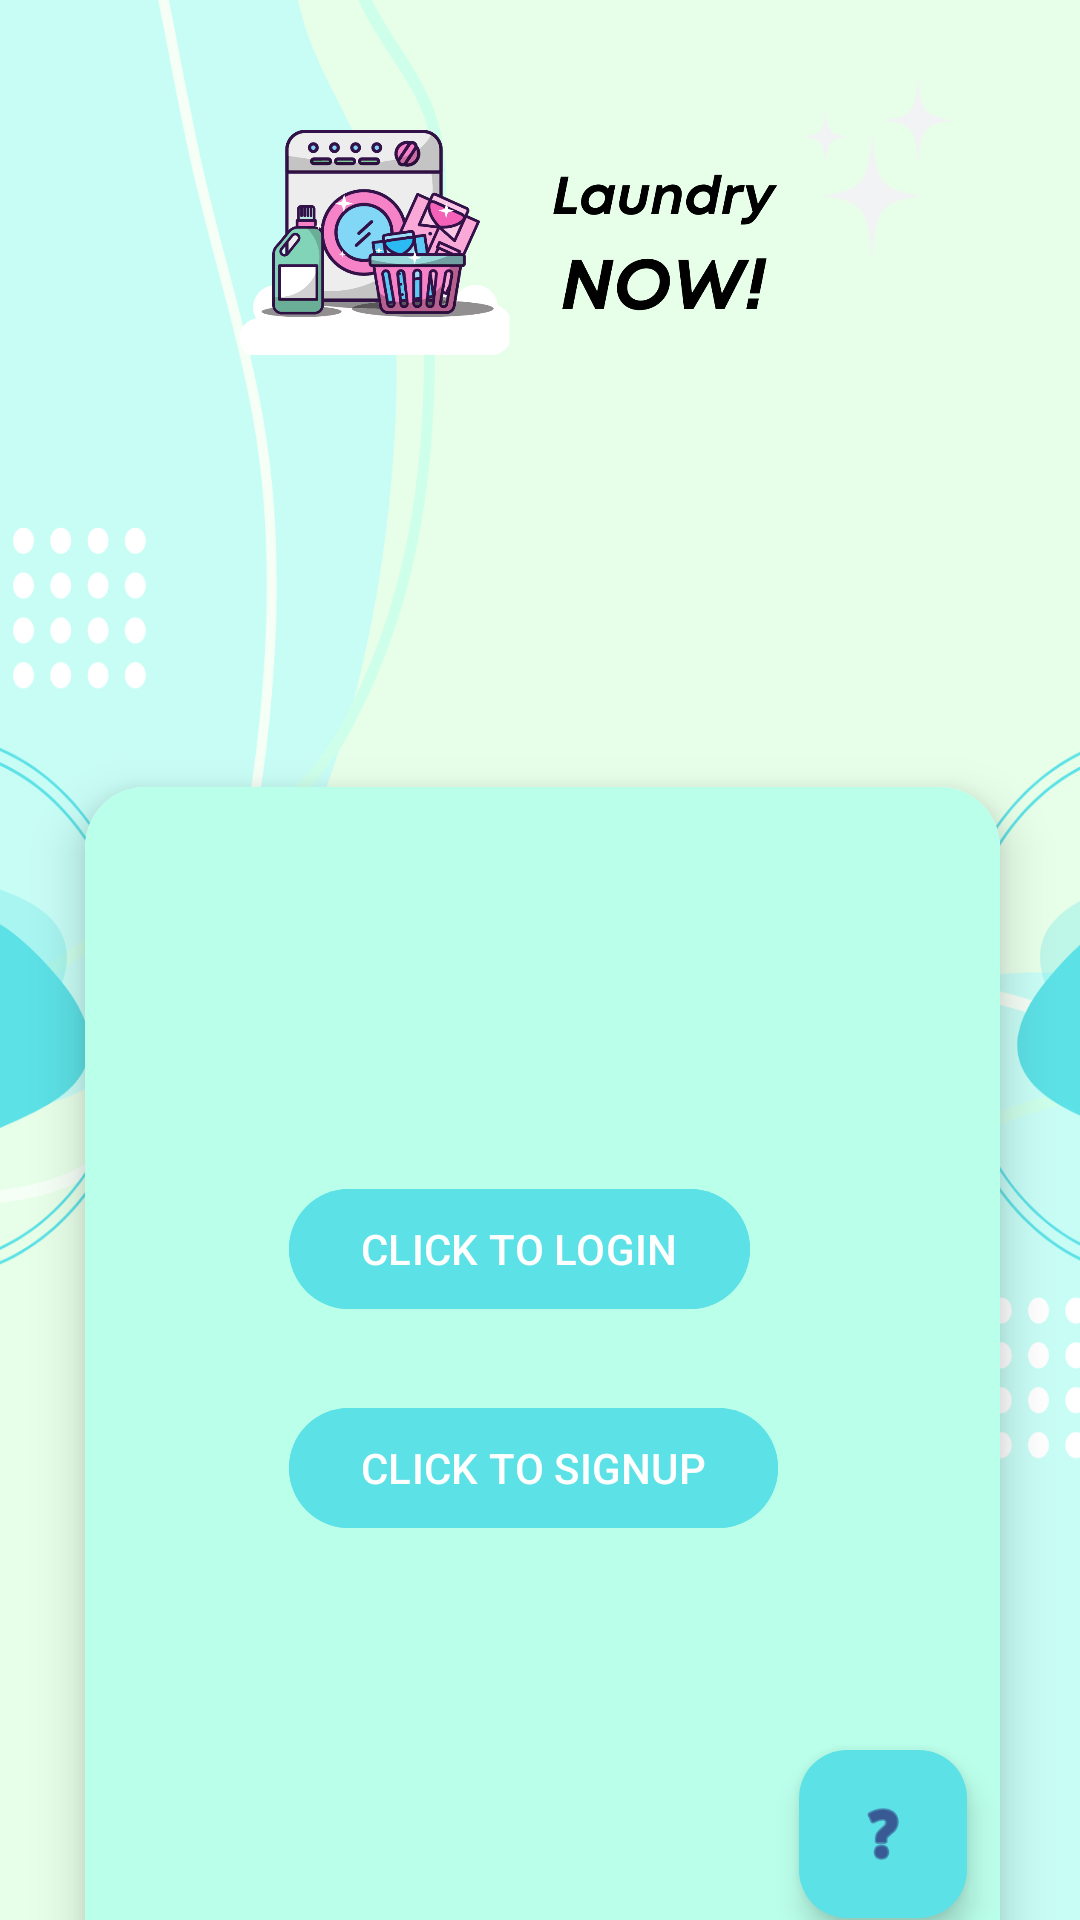

Icon click points for this 1080w x 1920h phone screenshot, format [x,y]:
Help: [883,1834]
